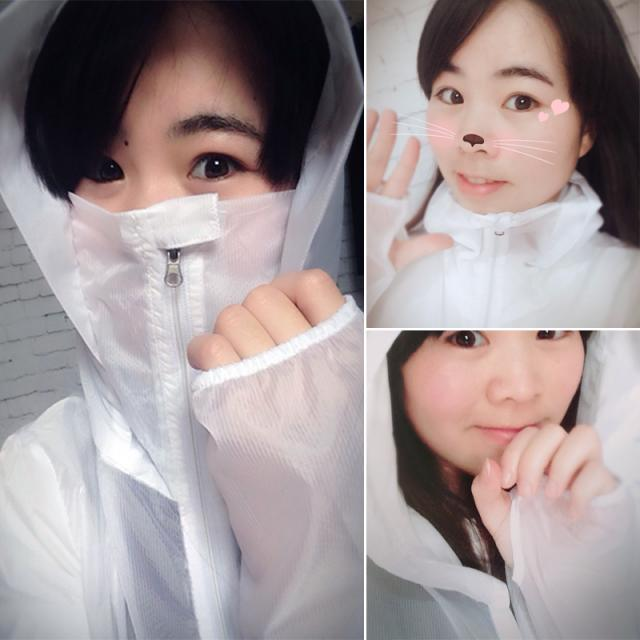mask: (58, 32, 284, 365)
nomask: (402, 272, 585, 477), (425, 0, 578, 222)
